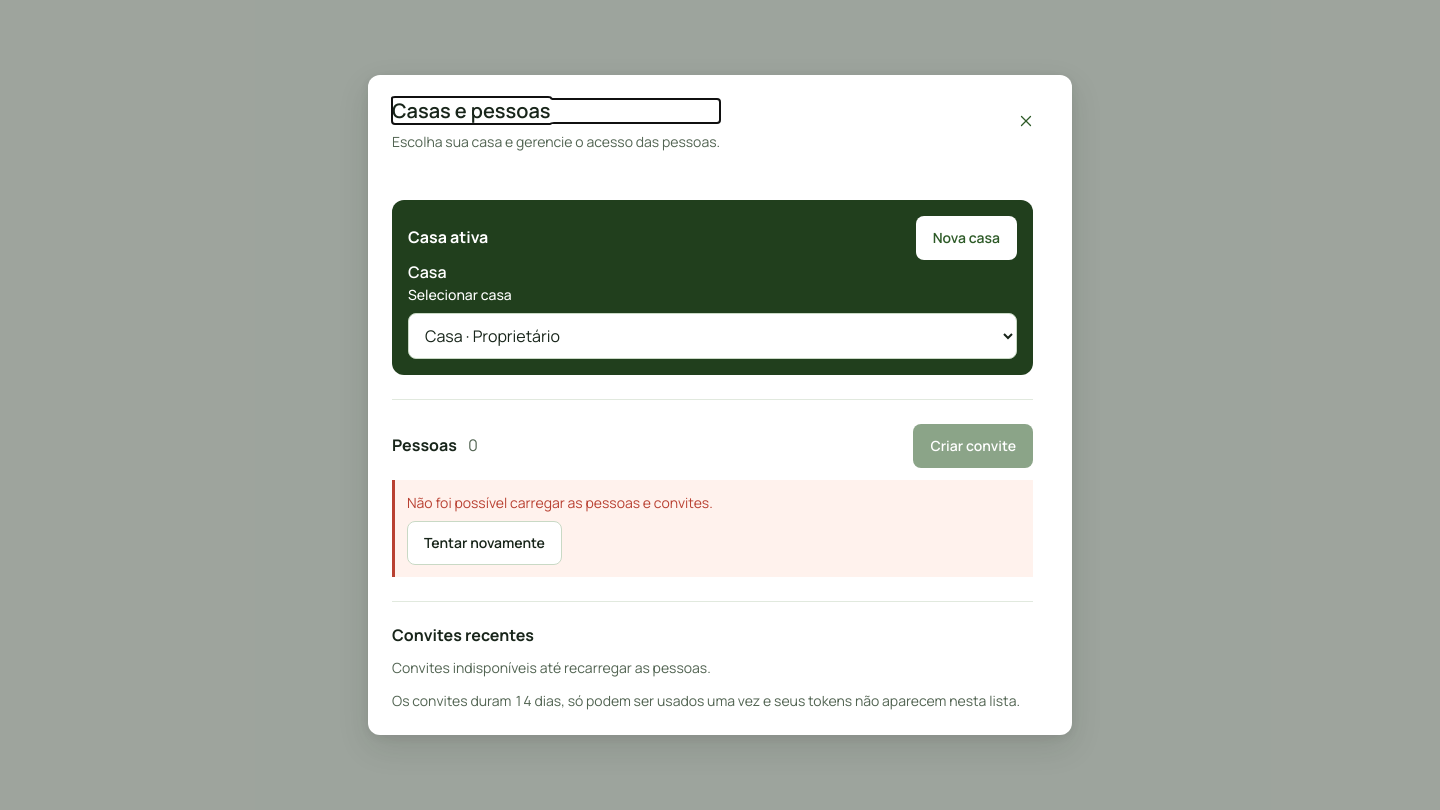
Test: household member display and recovery › shows a recoverable error and retries the member and invite loads
Expected: the text "Não foi possível carregar as pessoas e convites." is shown, 407,493 -> 713,512
Step 1. Click the button "Tentar novamente" → coordinates (484, 543), box 407,521 -> 562,565
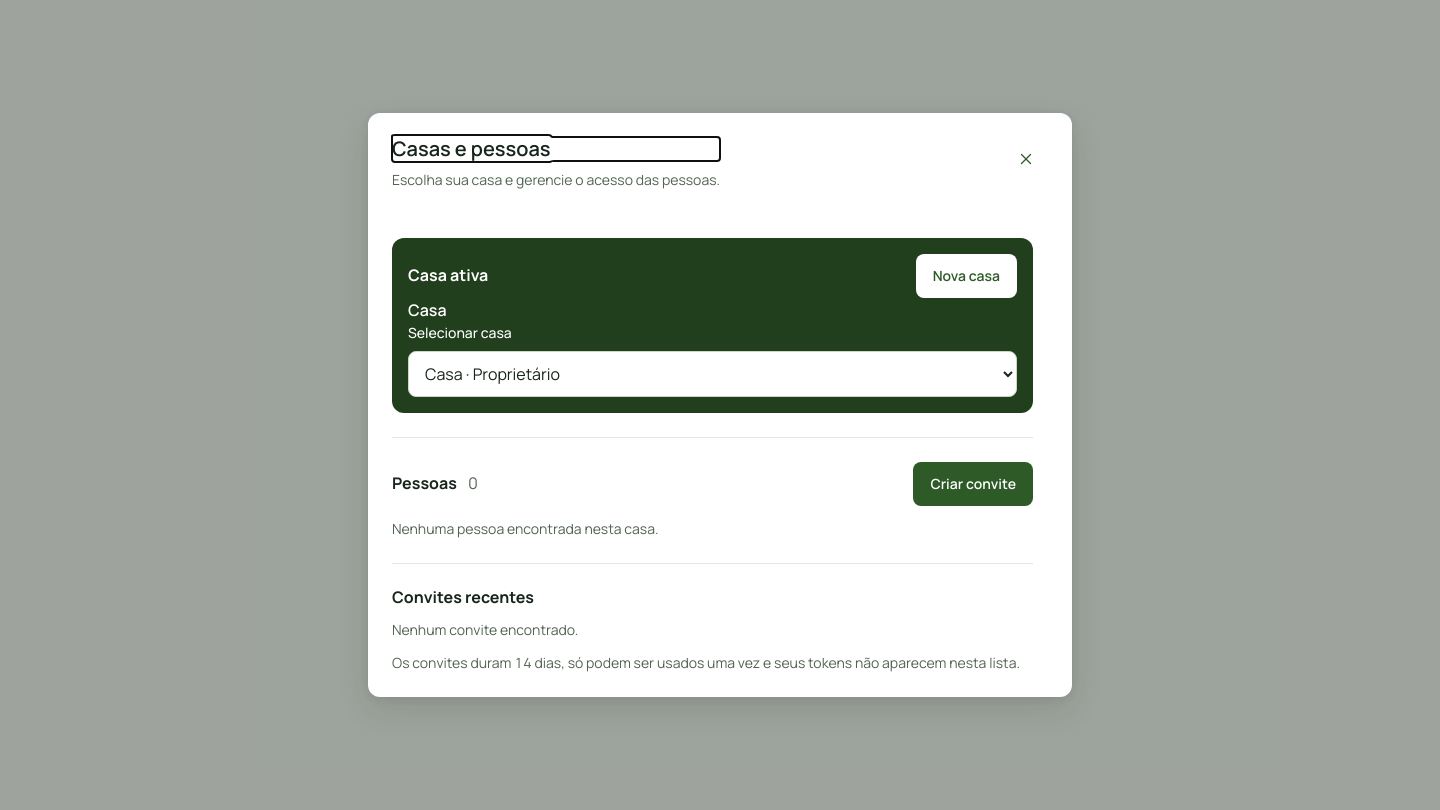
Expected: the text "Nenhum convite encontrado." is shown, 392,620 -> 578,639
